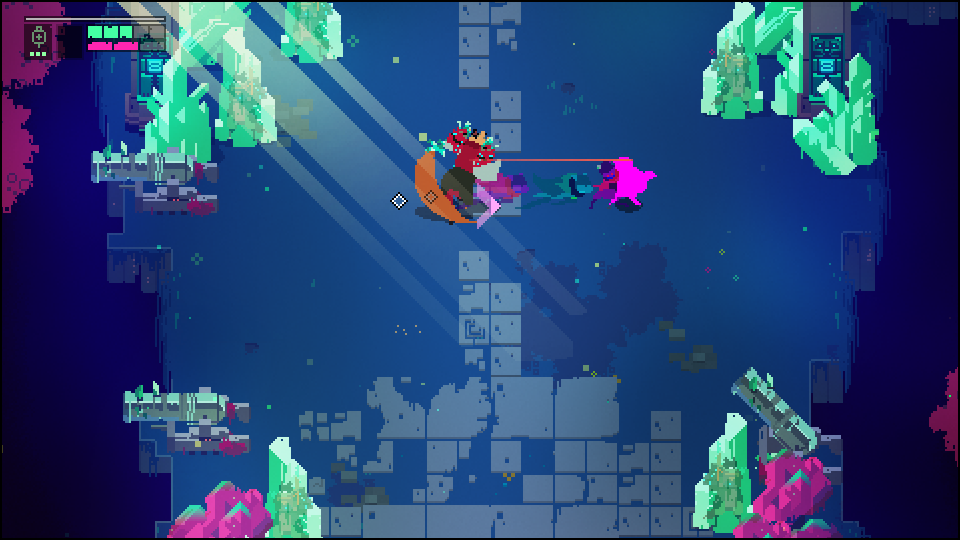hanged_man: (417, 122, 503, 231)
player: (611, 155, 657, 209)
